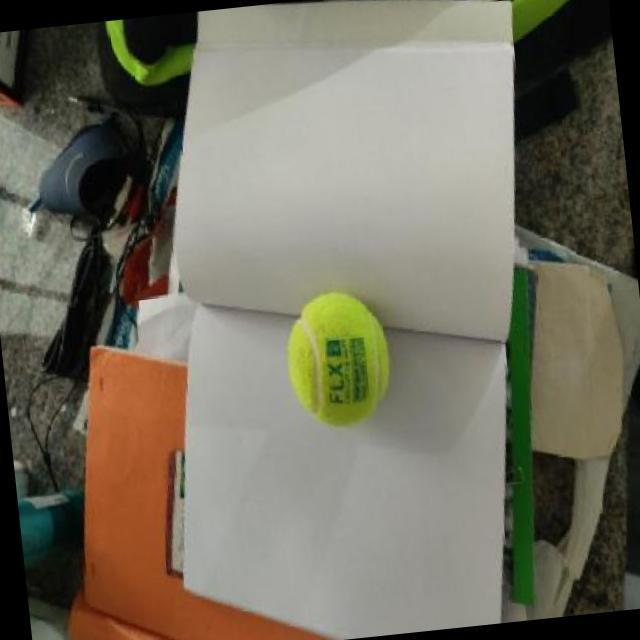-: (256, 251, 420, 462)
